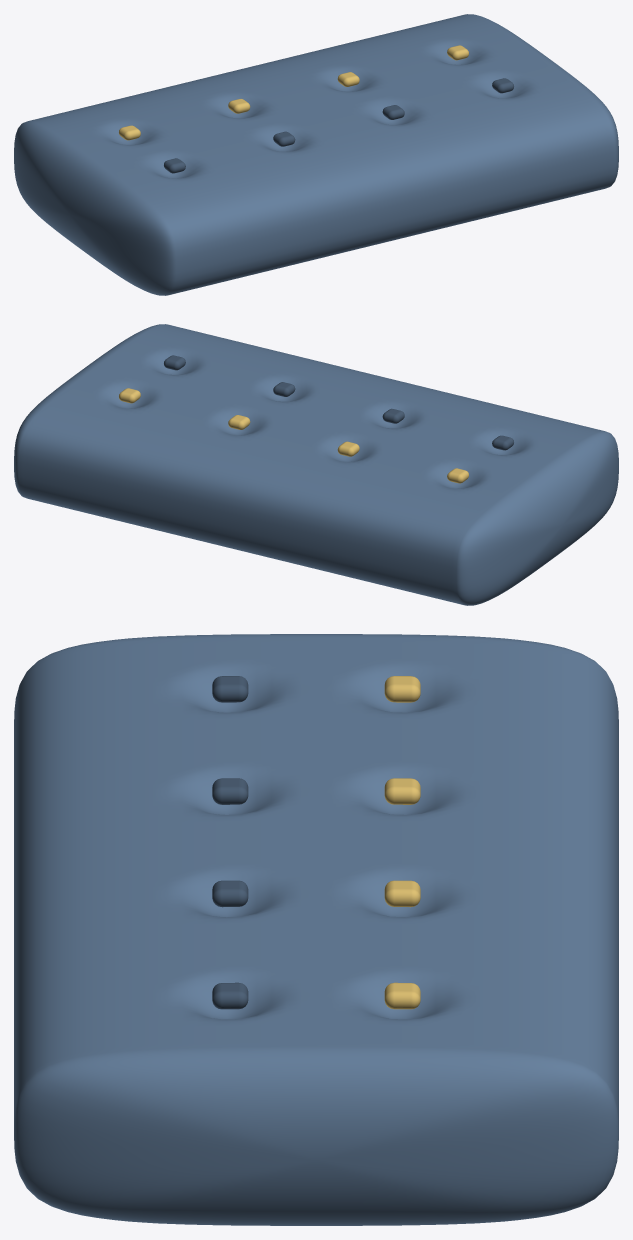
Rendered from cushion.gltf.
The picture shows the model from 3 angles, top to bottom: view 1: azimuth 30°, elevation 25°; view 2: azimuth 150°, elevation 25°; view 3: azimuth 270°, elevation 25°; orthographic projection. The views are drawn at different scales.
Visible parts, largest first — view 1: cushion; view 2: cushion; view 3: cushion, button 6, button 7, button 0, button 1, button 2, button 3, button 4, button 5.
Boxes of the visible parts, x1,y1,x2,y2 form: cushion: (14,14,618,295); cushion: (14,324,618,605); cushion: (14,634,618,1225); button 6: (384,982,420,1009); button 7: (212,982,248,1009); button 0: (384,676,420,702); button 1: (212,676,248,702); button 2: (384,778,420,804); button 3: (212,778,248,804); button 4: (384,880,420,907); button 5: (212,880,248,907).
Size of the model in its own units: 0.9007 by 0.1677 by 0.5.
